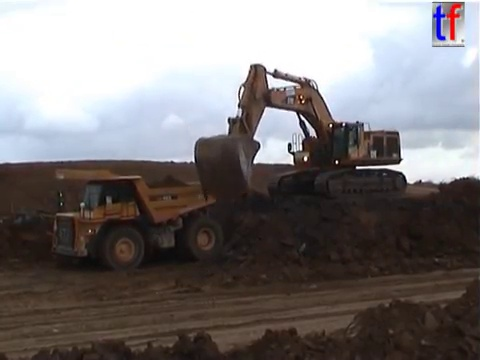excavator: (189, 62, 409, 204)
truck: (44, 166, 237, 270)
